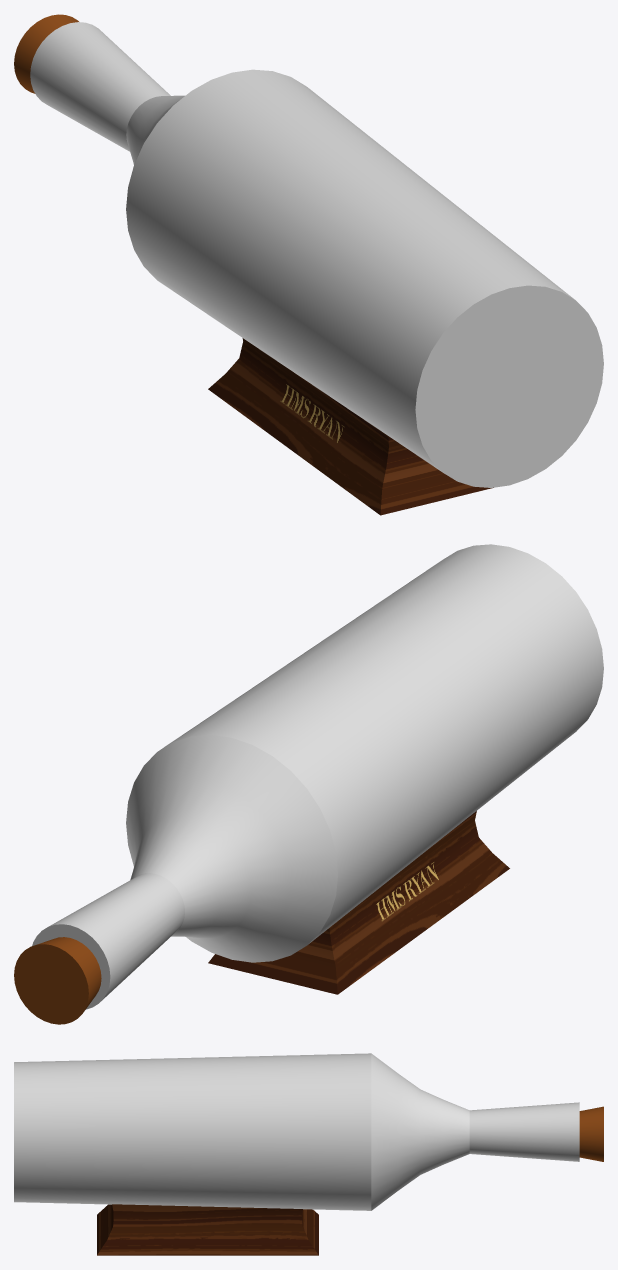
Rendered from ShipInAbottleFinal.fbx.
3 renders of one model, top to bottom at view 1: azimuth 30°, elevation 25°; view 2: azimuth 150°, elevation 25°; view 3: azimuth 270°, elevation 25°, orthographic. The views are drawn at different scales.
Parts seen in each view (by area): view 1: Glass bottle, Cube, Cork; view 2: Glass bottle, Cube, Cork; view 3: Glass bottle, Cube, Cork.
Boxes of the visible parts, x1,y1,x2,y2 form: Glass bottle: (30, 22, 603, 487); Cube: (208, 338, 493, 515); Cork: (14, 14, 78, 93); Glass bottle: (32, 544, 603, 1009); Cube: (208, 811, 509, 994); Cork: (14, 937, 101, 1024); Glass bottle: (14, 1053, 579, 1210); Cube: (97, 1204, 318, 1255); Cork: (579, 1106, 603, 1161).
Bounding box in the file's own units: 901 × 3370 × 1099.
